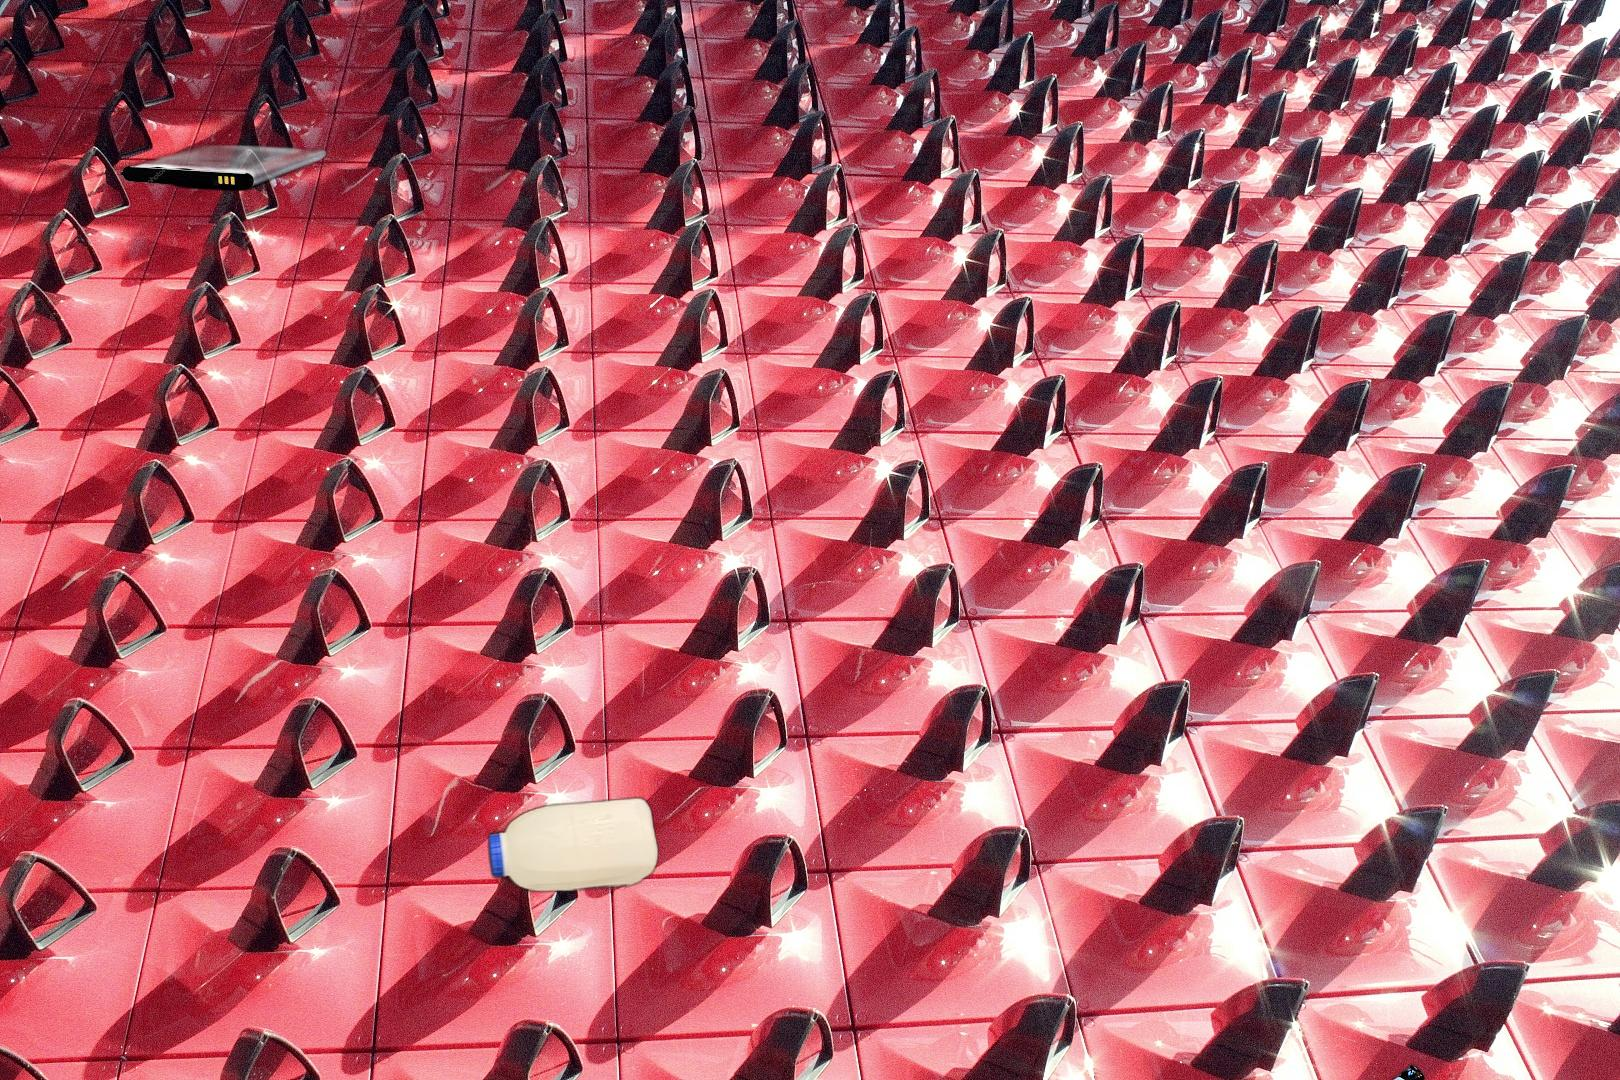battery: (118, 139, 331, 194)
glass: (1264, 1058, 1430, 1080)
plastic-bottles: (483, 791, 663, 898)
